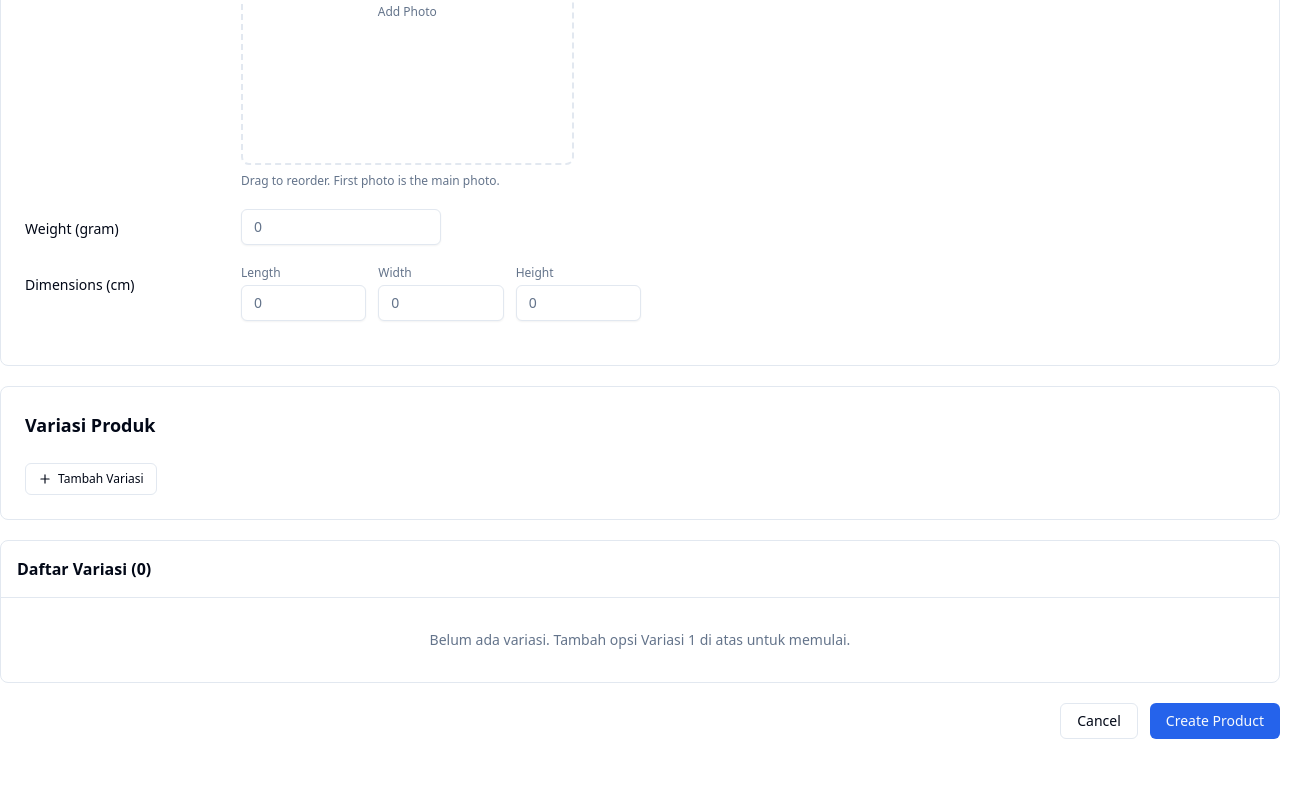
Test: clicking Tambah Variasi reveals Variasi 1 name input
(page scrolled)
Click the button "Tambah Variasi": click(91, 479) [25,463,157,495]
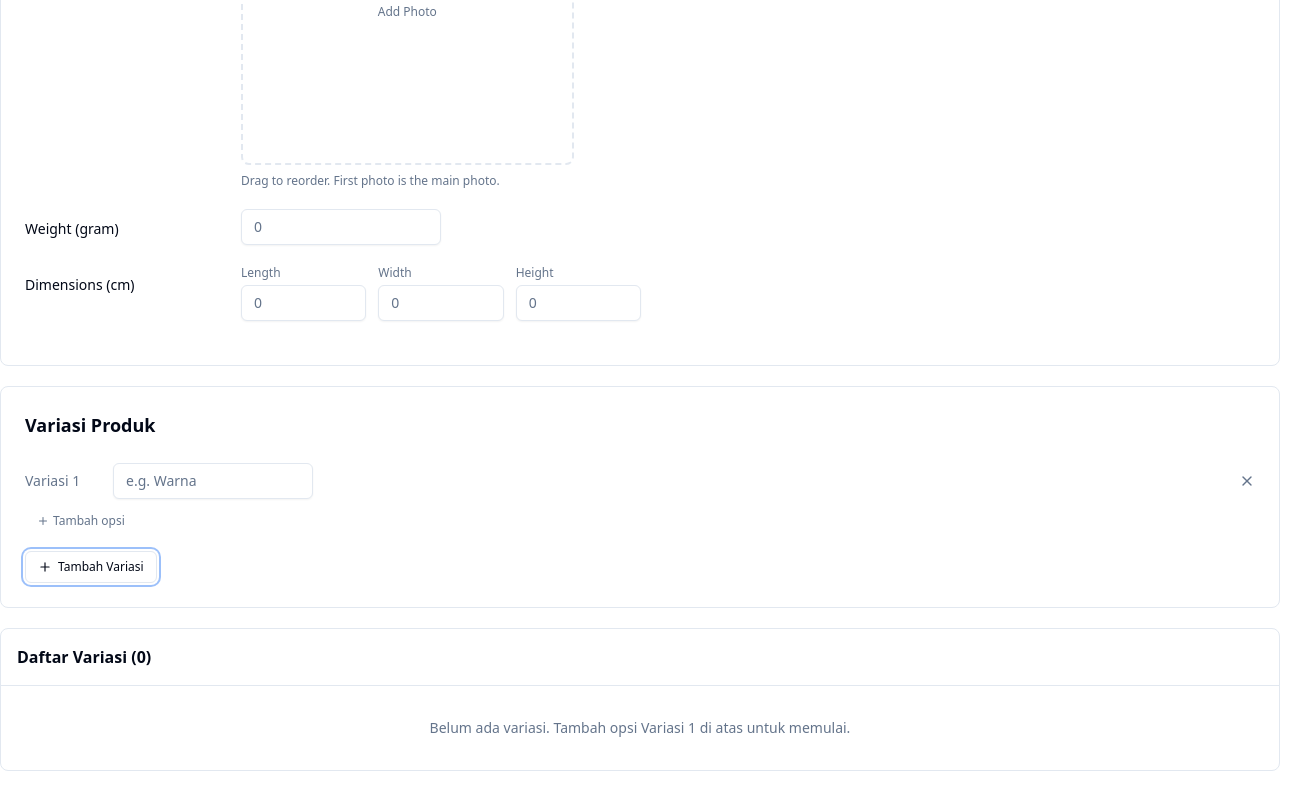
Check: the field with placeholder "e.g. Warna" is shown, box [113,463,313,499]
